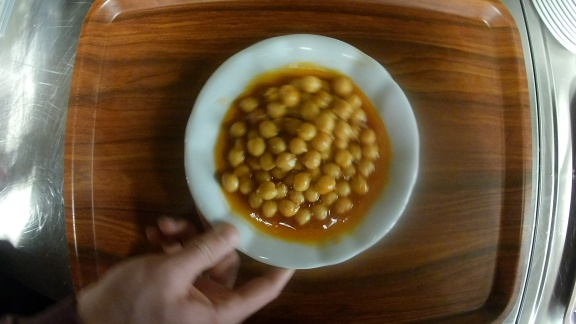sulunohut: (182, 34, 420, 271)
